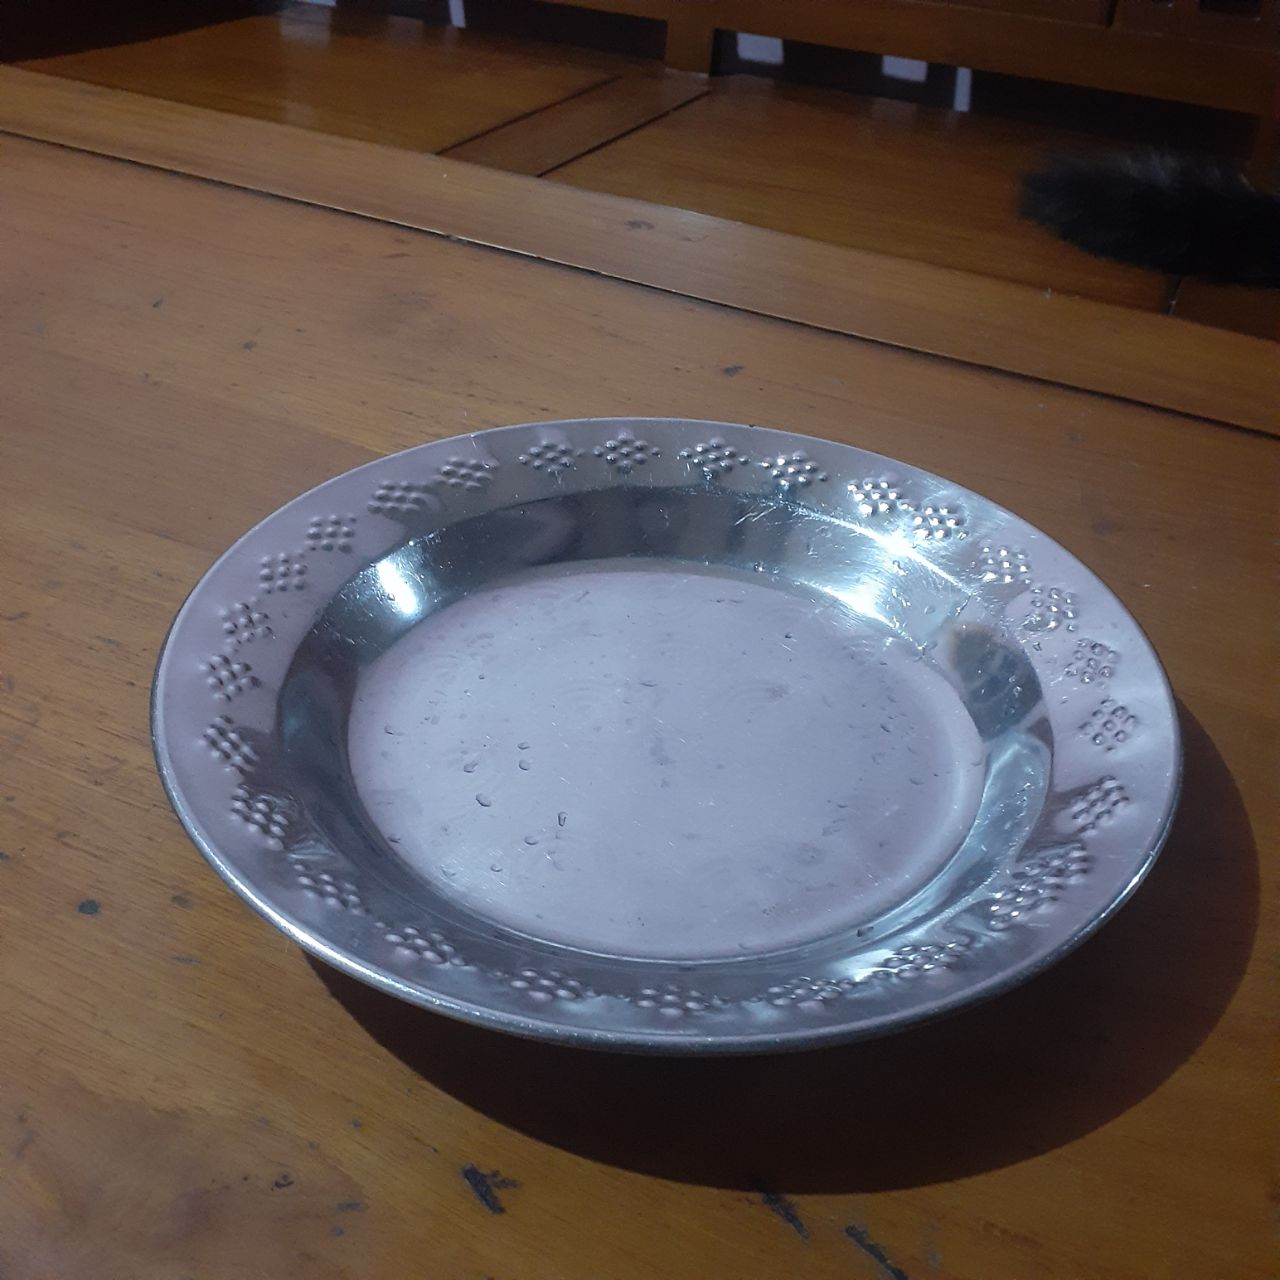piring: (155, 409, 1178, 1063)
